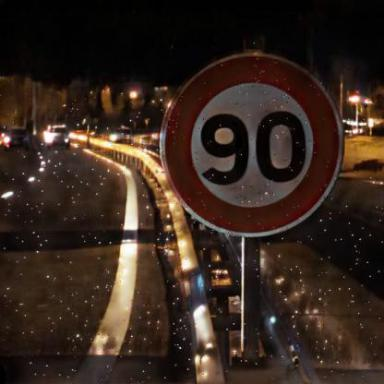Speed_limit_90: (168, 56, 338, 234)
